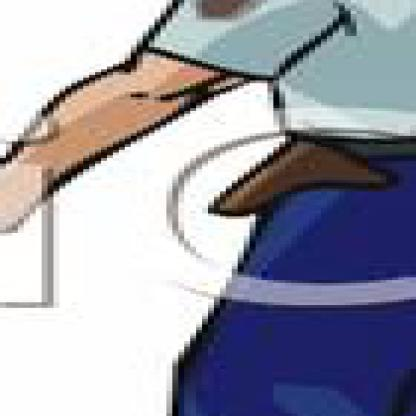gun: (0, 149, 54, 275)
